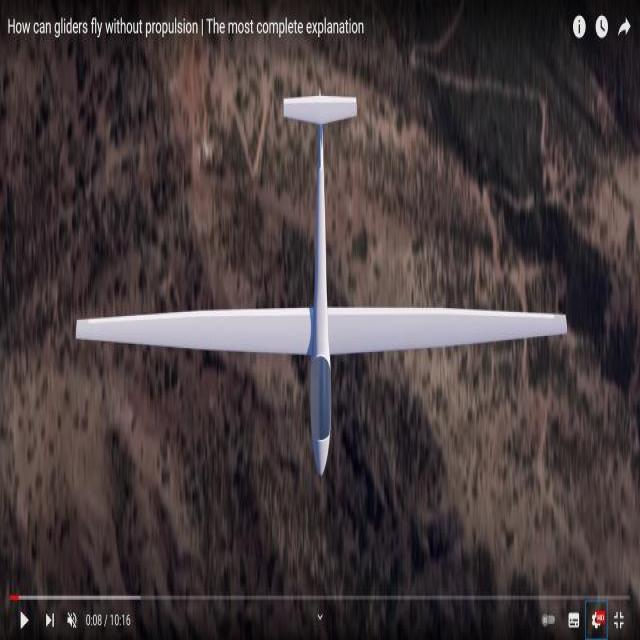iha: (66, 114, 567, 460)
